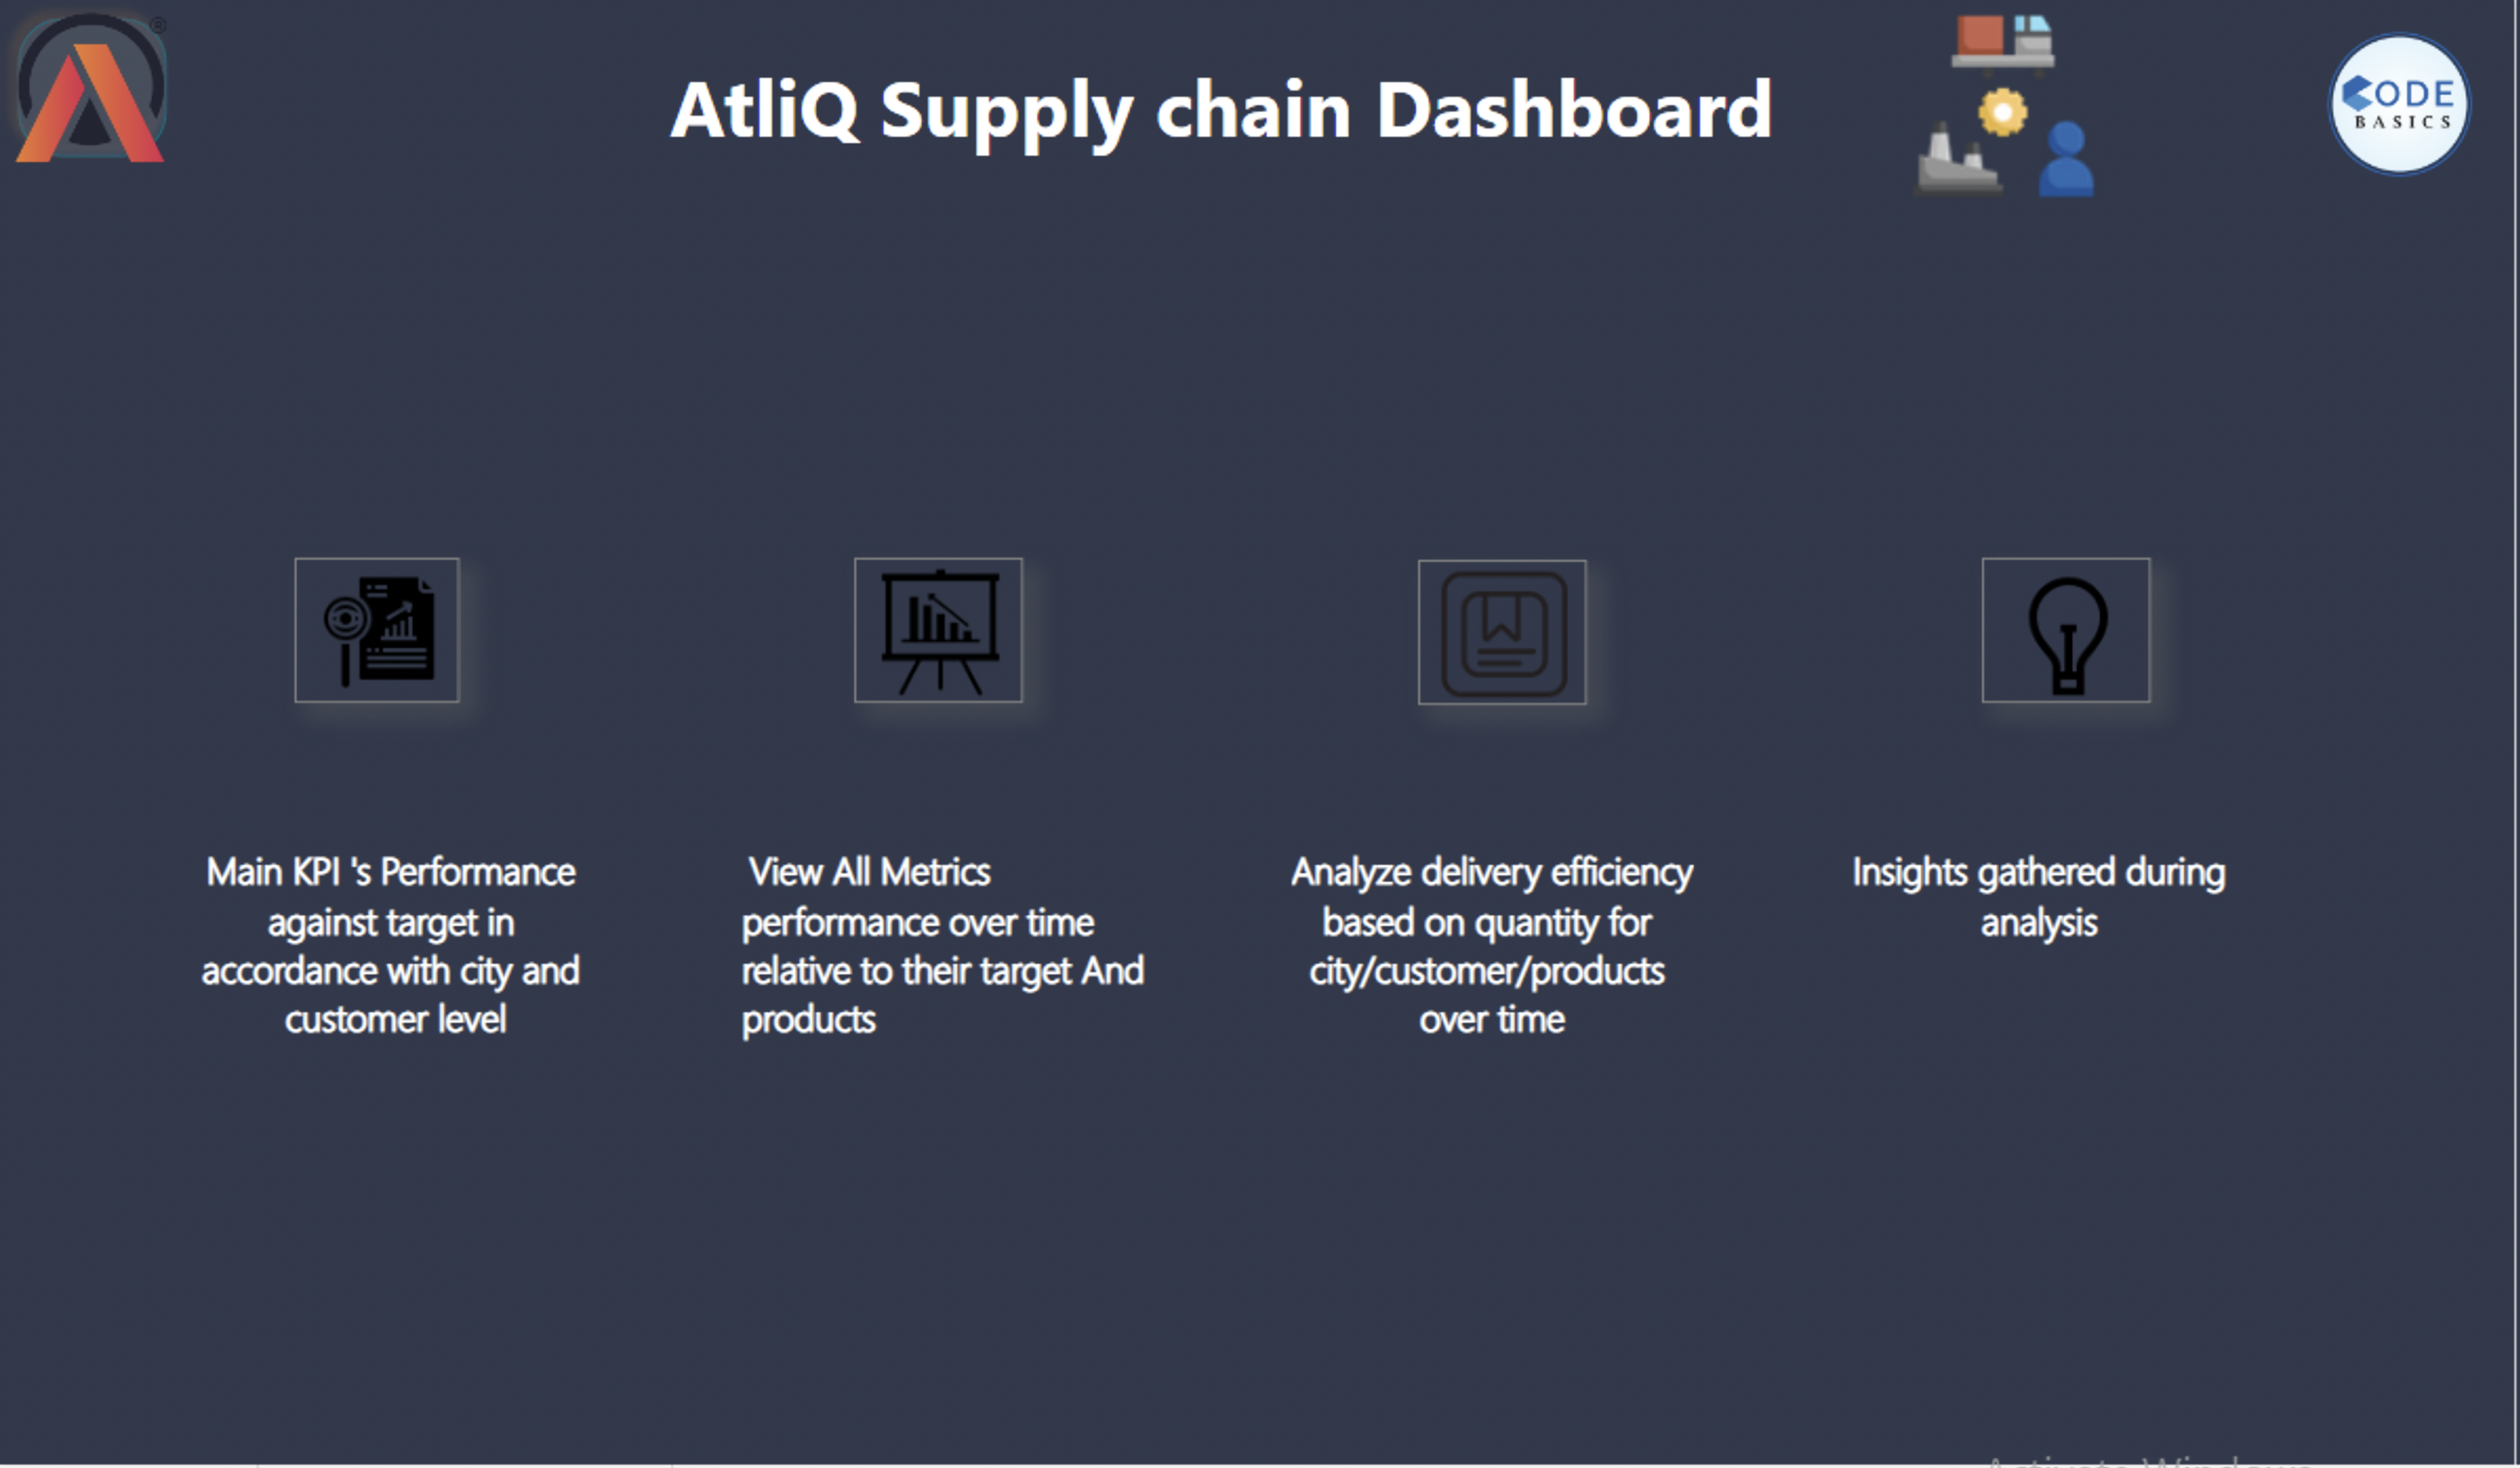

This screenshot's page, from the dashboard's own definition file:
{"tool":"powerbi","page":{"name":"Homepage","canvas":[1280,720],"ordinal":0},"visuals":[{"type":"shape","box":[0,0,93.7,88.9],"z":0},{"type":"image","box":[0,0,94.4,87.7],"z":1000},{"type":"shape","title":"jjjjj","box":[150.1,0,944.4,107.9],"z":2000},{"type":"image","box":[1161.9,8.4,118.1,89.4],"z":3000},{"type":"image","box":[721.8,285,86,74.2],"z":4000},{"type":"image","box":[944.4,0,150.1,107.9],"z":5000},{"type":"image","box":[435.1,283.3,86,74.2],"z":6000},{"type":"image","box":[1008.5,283.3,86,74.2],"z":7000},{"type":"image","box":[150.1,283.3,84.3,74.2],"z":8000},{"type":"textbox","box":[94.4,425,215,195],"z":9000},{"type":"textbox","box":[373.3,425,215,195],"z":10000},{"type":"textbox","box":[930.9,425,215,195],"z":11000},{"type":"textbox","box":[652.1,425,215,195],"z":12000}]}

Visuals, with their boxes on the page's 1280x720 design canvas (x1, y1, x2, y2). These are canvas units, not pixel positions in the 2520x1468 screenshot, which may show the page scaled, cropped or inside an application window:
shape: 0/0/94/89
image: 0/0/94/88
"jjjjj" shape: 150/0/1094/108
image: 1162/8/1280/98
image: 722/285/808/359
image: 944/0/1094/108
image: 435/283/521/358
image: 1008/283/1094/358
image: 150/283/234/358
textbox: 94/425/309/620
textbox: 373/425/588/620
textbox: 931/425/1146/620
textbox: 652/425/867/620
